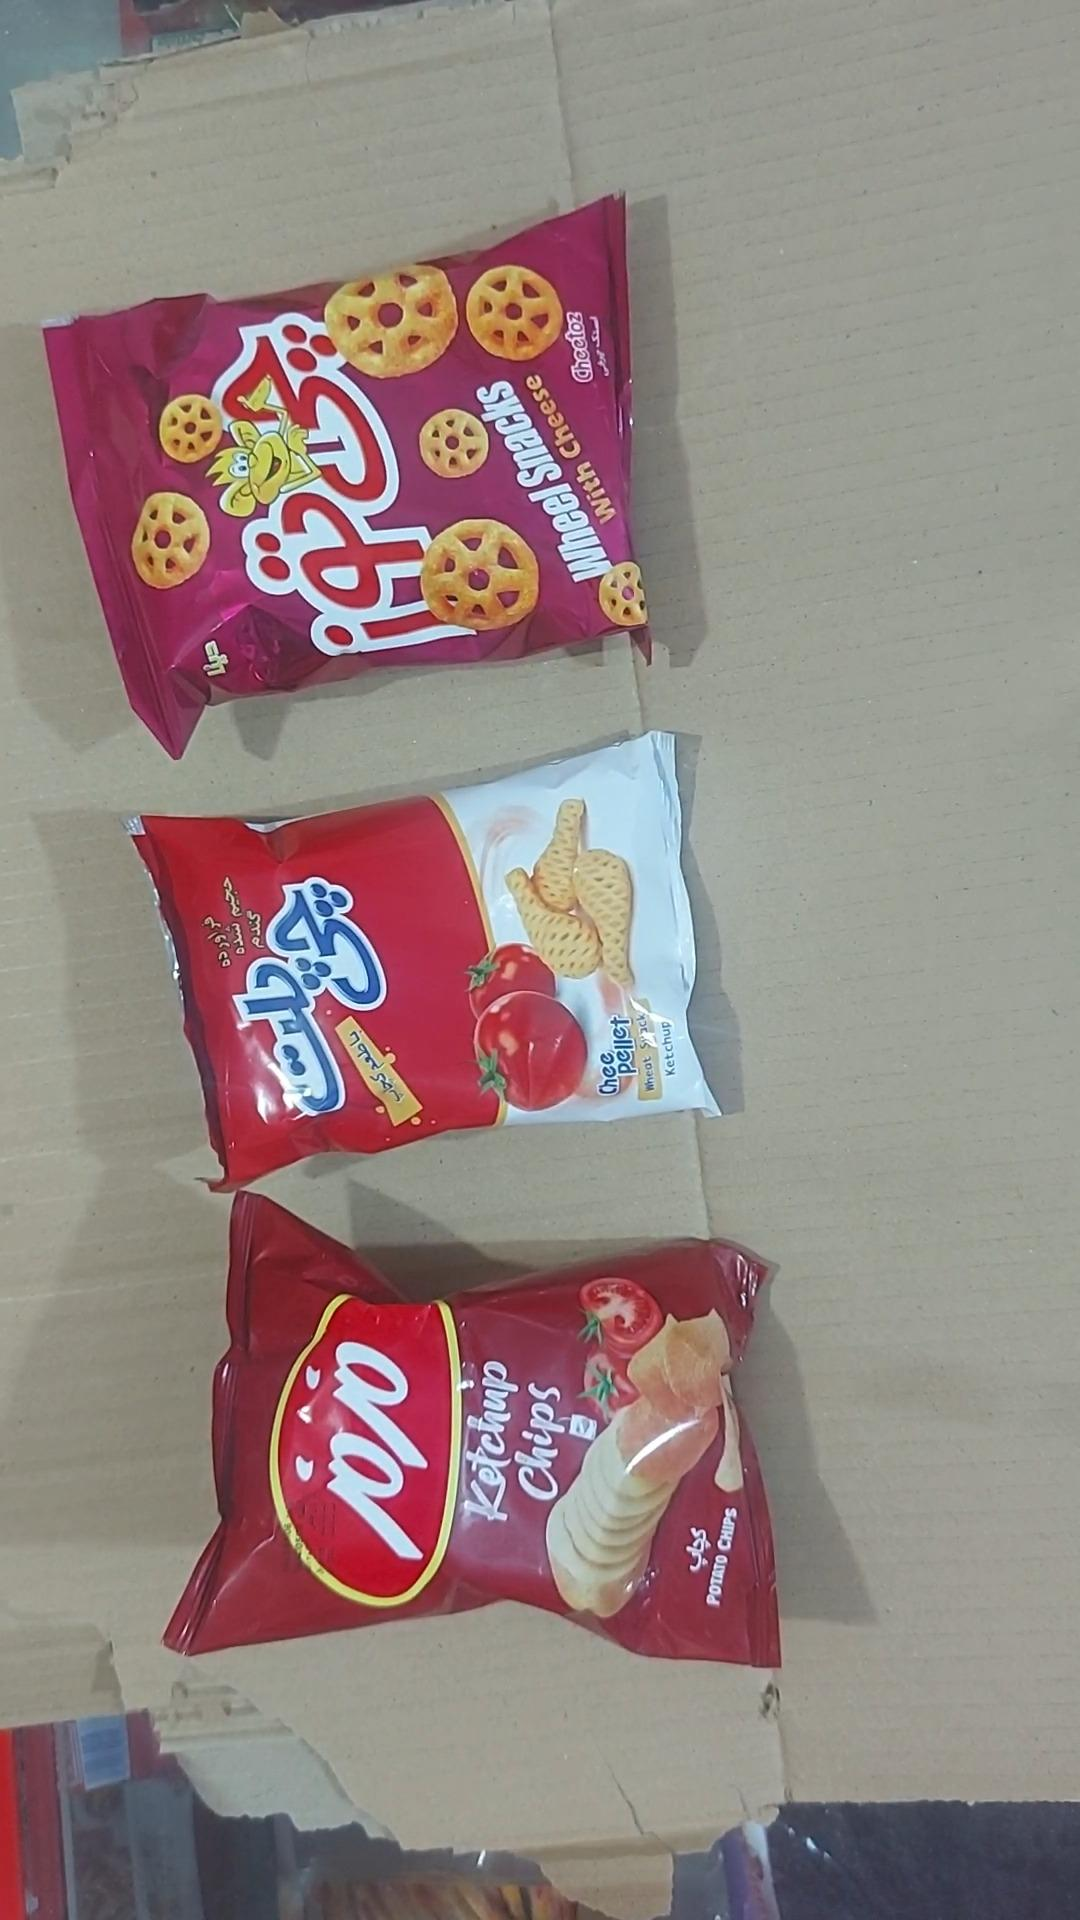Chee pellet ketchup: (124, 733, 720, 1195)
Cheetoz wheelsnack: (41, 196, 653, 762)
Maz Maz ketchup chips: (162, 1192, 785, 1671)
